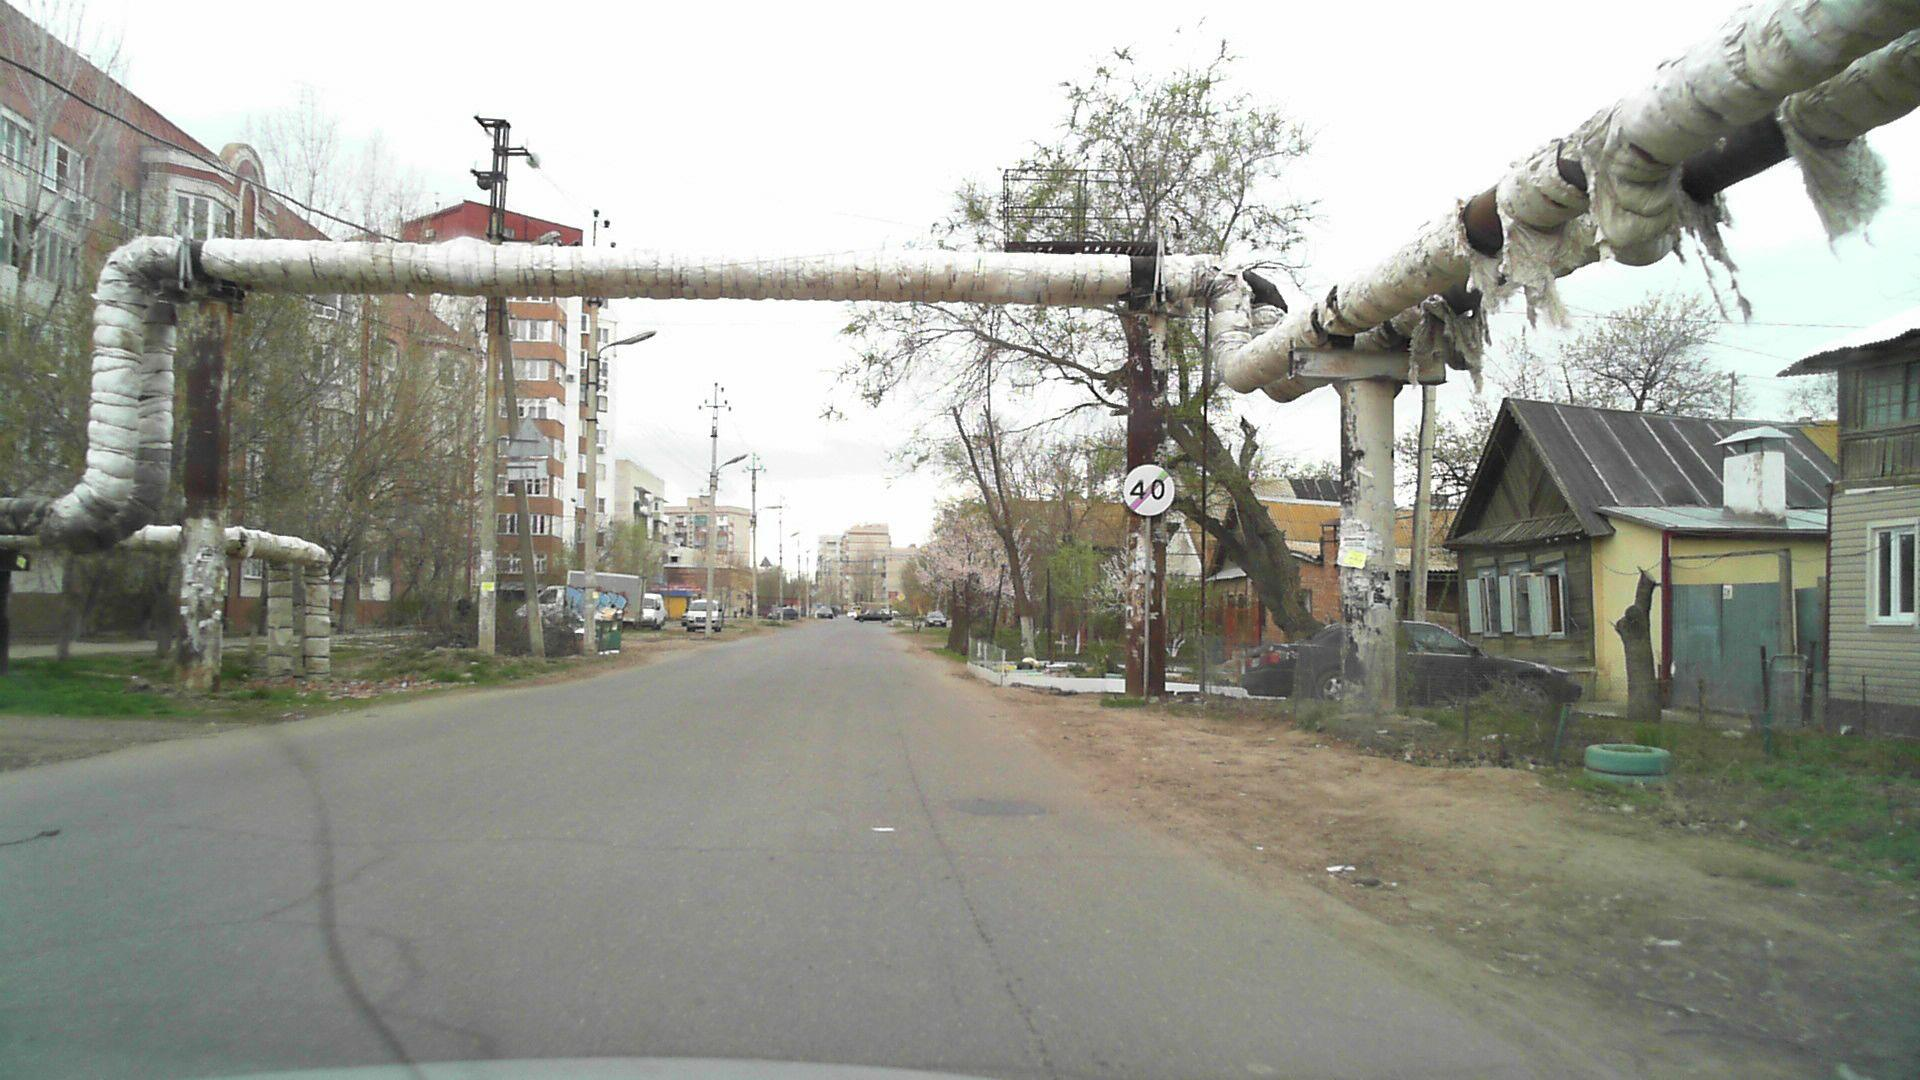3_25: (1119, 461, 1177, 516)
